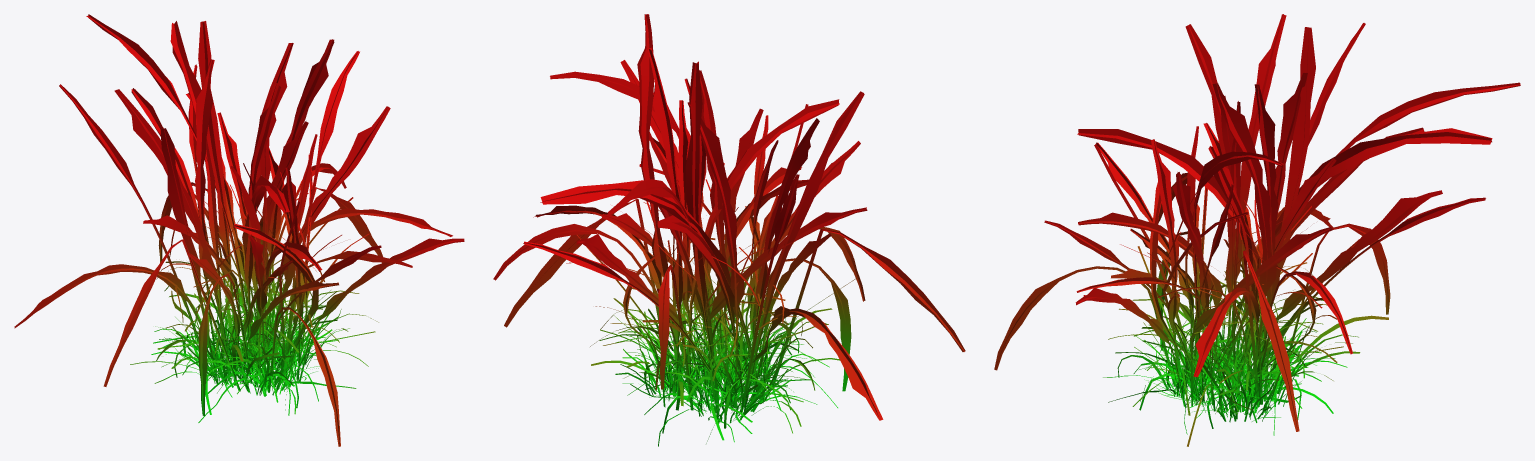
Rendered from Wheat_LOD1_Var1_smdoejyr.fbx.
3 renders of one model, left to right at view 1: azimuth 30°, elevation 25°; view 2: azimuth 150°, elevation 25°; view 3: azimuth 270°, elevation 25°, orthographic. The views are drawn at different scales.
Parts seen in each view (by area): view 1: _1pr7_Var1_LOD1; view 2: _1pr7_Var1_LOD1; view 3: _1pr7_Var1_LOD1.
Part boxes in pixels (left/top/right/bottom): _1pr7_Var1_LOD1: left=14, top=14, right=464, bottom=446; _1pr7_Var1_LOD1: left=493, top=14, right=965, bottom=446; _1pr7_Var1_LOD1: left=994, top=14, right=1520, bottom=446.
Size of the model in its own units: 73.12 by 66.04 by 81.32.
